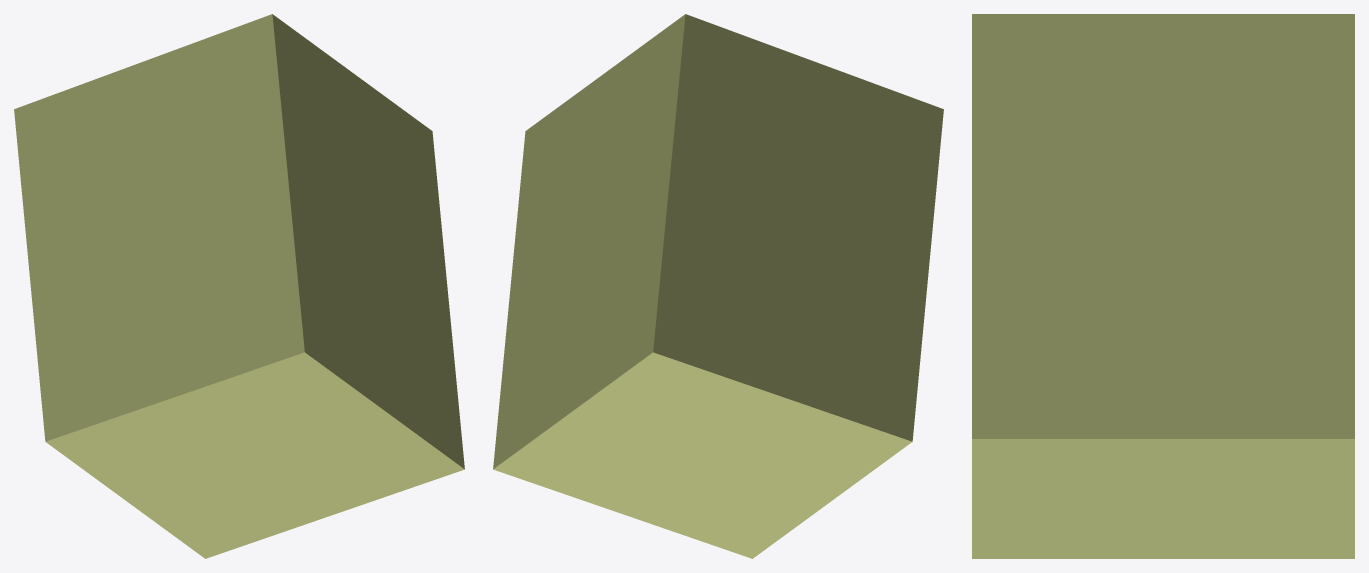
3 views of the same model, side by side, from view 1: azimuth 30°, elevation 25°; view 2: azimuth 150°, elevation 25°; view 3: azimuth 270°, elevation 25° (orthographic). The views are drawn at different scales.
Visible parts, largest first — view 1: 0_1_0_0_1_0_0_2_2_3_2; view 2: 0_1_0_0_1_0_0_2_2_3_2; view 3: 0_1_0_0_1_0_0_2_2_3_2.
Boxes of the visible parts, <box> form: 0_1_0_0_1_0_0_2_2_3_2: <box>14,14,464,558</box>; 0_1_0_0_1_0_0_2_2_3_2: <box>493,14,943,558</box>; 0_1_0_0_1_0_0_2_2_3_2: <box>972,14,1354,558</box>.
Bounding box in the file's own units: 9.44 × 11.55 × 9.
